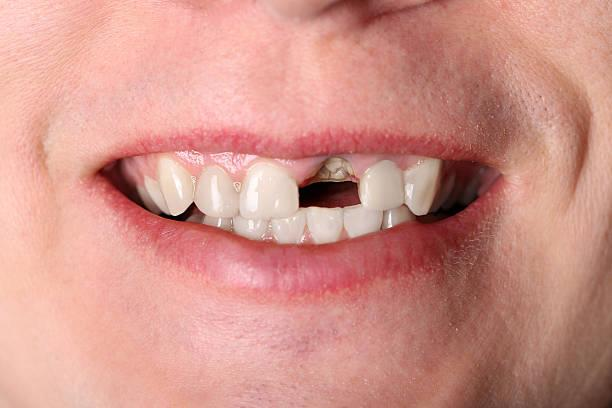Hypodontia: (298, 169, 366, 207)
